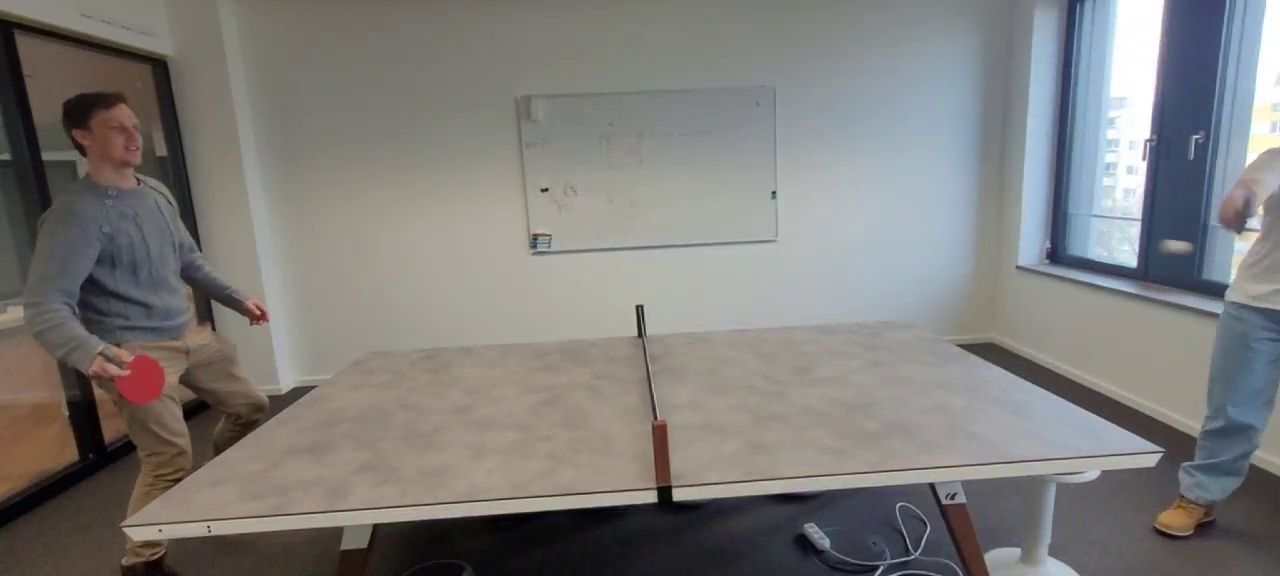1: (96, 344, 164, 403), (1233, 197, 1251, 234)
2: (1158, 239, 1195, 254)
ttplatte: (121, 319, 1163, 525)
